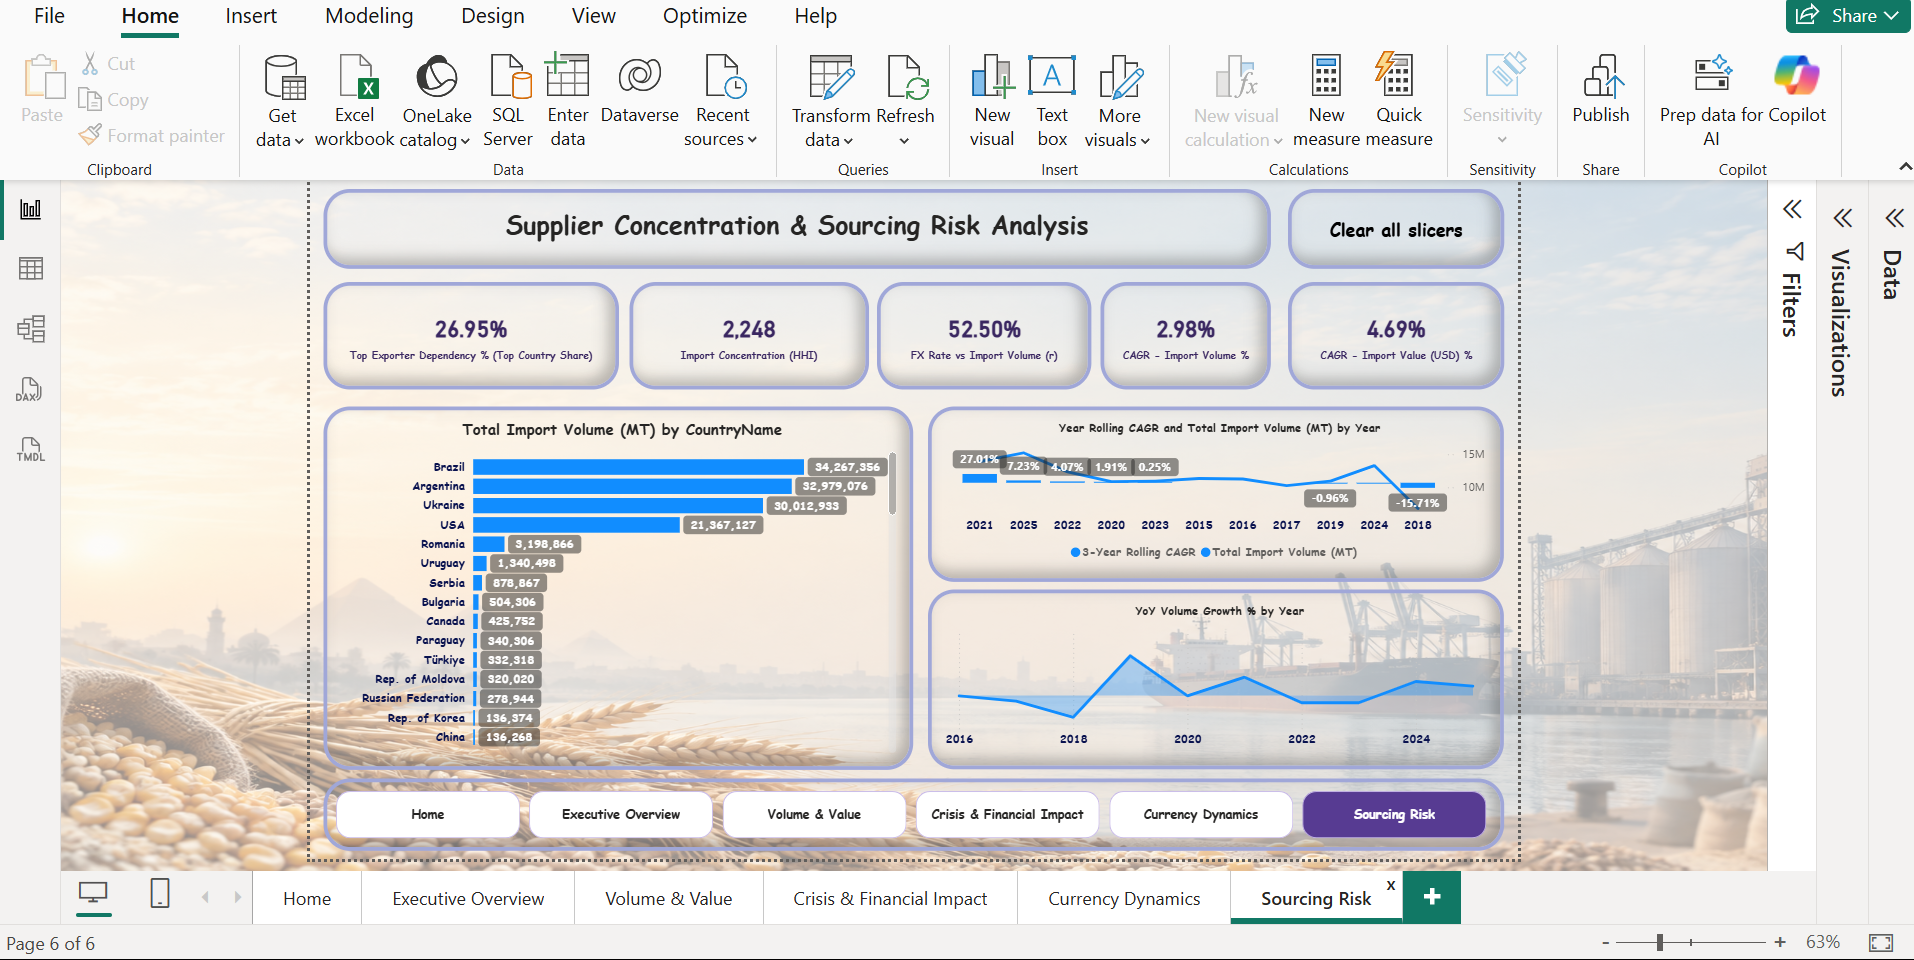

This screenshot's page, from the dashboard's own definition file:
{"tool":"powerbi","page":{"name":"Sourcing Risk","canvas":[1280,720],"ordinal":5},"visuals":[{"type":"textbox","box":[14.6,8.8,1004.7,84.6],"z":0},{"type":"actionButton","box":[1036.8,8.8,229.5,84.6],"z":1000},{"type":"pageNavigator","box":[14.6,635.1,1251.8,76.8],"z":2000},{"type":"card","fields":{"Values":["_Measures.Correlation - FX Rate vs Import Volume (r)"]},"box":[601.1,108,227.6,113.8],"z":3000},{"type":"card","fields":{"Values":["_Measures.Import Concentration (HHI)"]},"box":[339.5,108,253.9,113.8],"z":4000},{"type":"card","fields":{"Values":["_Measures.Top Exporter Dependency % (Top Country Share)"]},"box":[14.6,108,313.2,113.8],"z":5000},{"type":"clusteredBarChart","fields":{"Category":["DimCountry.CountryName"],"Y":["_Measures.Total Import Volume (MT)"]},"box":[14.6,240.2,625.4,385.2],"z":6000},{"type":"card","fields":{"Values":["_Measures.CAGR - Import Volume %"]},"box":[838.4,108,180.9,113.8],"z":7000},{"type":"card","fields":{"Values":["_Measures.CAGR - Import Value (USD) %"]},"box":[1036.8,108,229.5,113.8],"z":8000},{"type":"lineChart","fields":{"Category":["DimYear.Year"],"Y":["_Measures.YoY Volume Growth %"]},"box":[655.6,434.8,610.8,190.6],"z":9000},{"type":"lineStackedColumnComboChart","title":"Year Rolling CAGR and Total Import Volume (MT) by Year","fields":{"Category":["DimYear.Year"],"Y":["_Measures.3-Year Rolling CAGR"],"Y2":["_Measures.Total Import Volume (MT)"]},"box":[655.6,240.2,610.8,185.8],"z":10000}]}

Visuals, with their boxes on the page's 1280x720 design canvas (x1, y1, x2, y2). These are canvas units, not pixel positions in the 1914x960 screenshot, which may show the page scaled, cropped or inside an application window:
textbox: box(15, 9, 1019, 93)
actionButton: box(1037, 9, 1266, 93)
pageNavigator: box(15, 635, 1266, 712)
card - _Measures.Correlation - FX Rate vs Import Volume (r): box(601, 108, 829, 222)
card - _Measures.Import Concentration (HHI): box(340, 108, 593, 222)
card - _Measures.Top Exporter Dependency % (Top Country Share): box(15, 108, 328, 222)
clusteredBarChart - DimCountry.CountryName x _Measures.Total Import Volume (MT): box(15, 240, 640, 625)
card - _Measures.CAGR - Import Volume %: box(838, 108, 1019, 222)
card - _Measures.CAGR - Import Value (USD) %: box(1037, 108, 1266, 222)
lineChart - DimYear.Year x _Measures.YoY Volume Growth %: box(656, 435, 1266, 625)
"Year Rolling CAGR and Total Import Volume (MT) by Year" lineStackedColumnComboChart: box(656, 240, 1266, 426)
